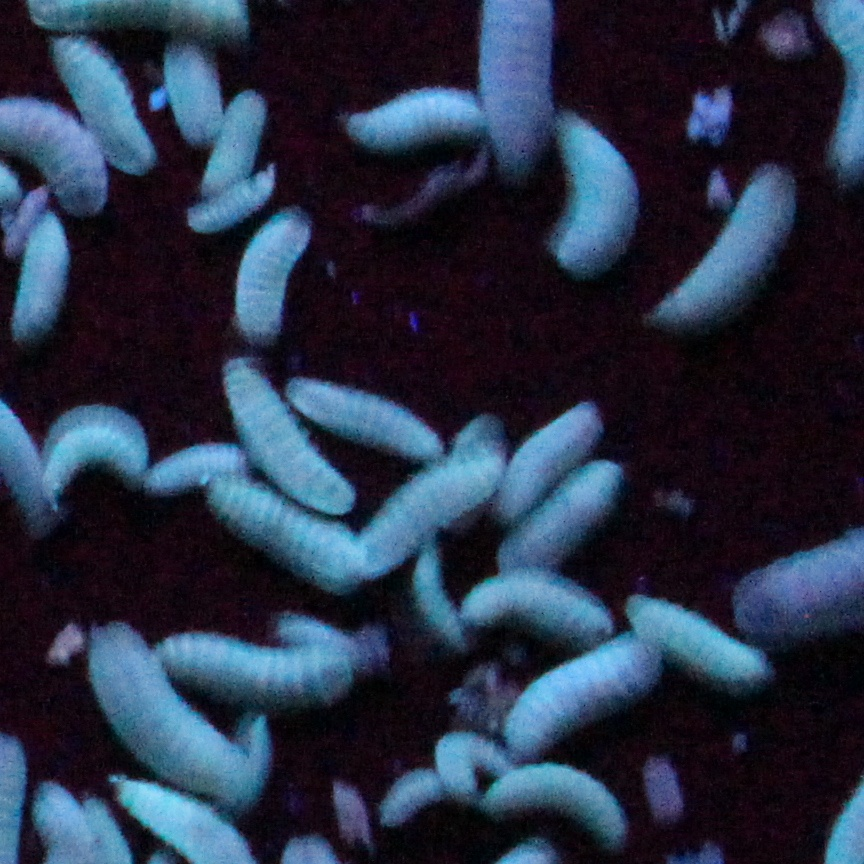larve: (76, 616, 283, 800), (649, 156, 798, 335), (216, 348, 359, 517), (131, 607, 357, 708), (512, 623, 669, 759), (37, 29, 162, 194), (277, 351, 448, 466), (551, 102, 639, 294), (620, 592, 784, 692), (31, 381, 159, 504), (336, 72, 489, 174), (223, 197, 323, 351), (471, 753, 639, 843), (487, 395, 610, 517), (10, 208, 77, 344), (202, 85, 272, 210)
